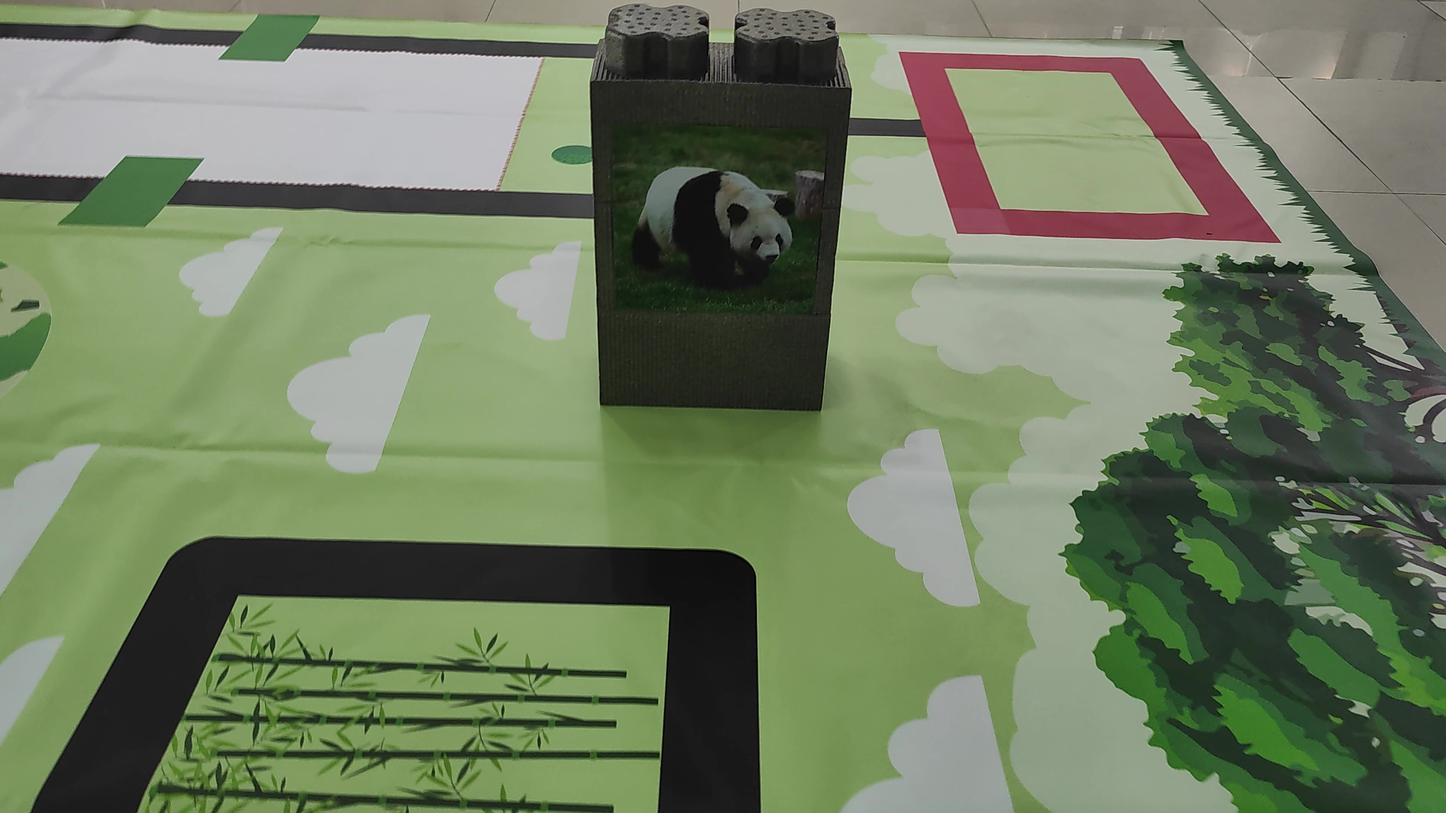panda: (618, 131, 842, 329)
